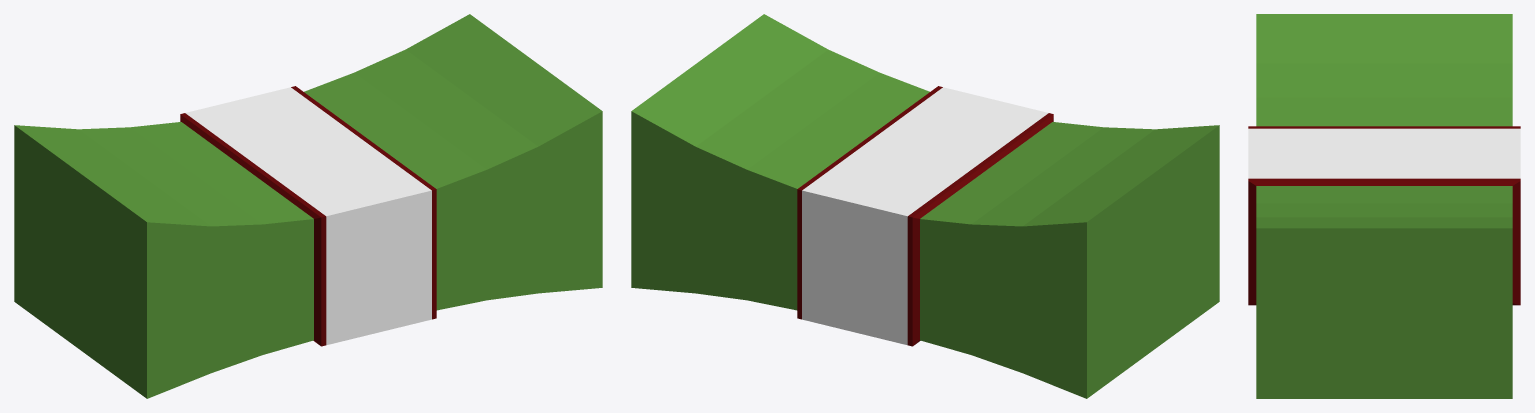
The model's file is MoneyStack.fbx.
3 views of the same model, side by side, from view 1: azimuth 30°, elevation 25°; view 2: azimuth 150°, elevation 25°; view 3: azimuth 270°, elevation 25° (orthographic). The views are drawn at different scales.
Visible parts, largest first — view 1: MoneyStack; view 2: MoneyStack; view 3: MoneyStack.
Boxes of the visible parts, left/top/right/bottom form: MoneyStack: left=14, top=14, right=602, bottom=398; MoneyStack: left=631, top=14, right=1219, bottom=398; MoneyStack: left=1248, top=14, right=1520, bottom=398.
Size of the model in its own units: 55.88 by 20.71 by 29.99.
